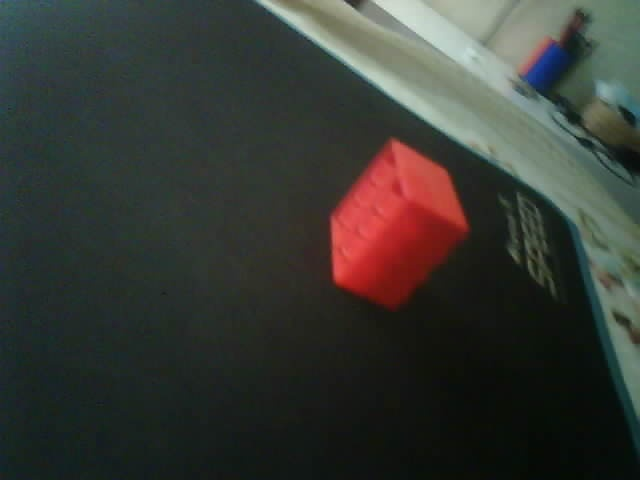lego: (328, 136, 469, 314)
